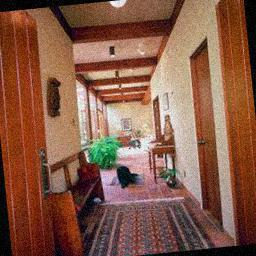Matera: (94, 132, 121, 167)
Puerta: (0, 11, 57, 256), (215, 0, 256, 238), (189, 49, 225, 228)
